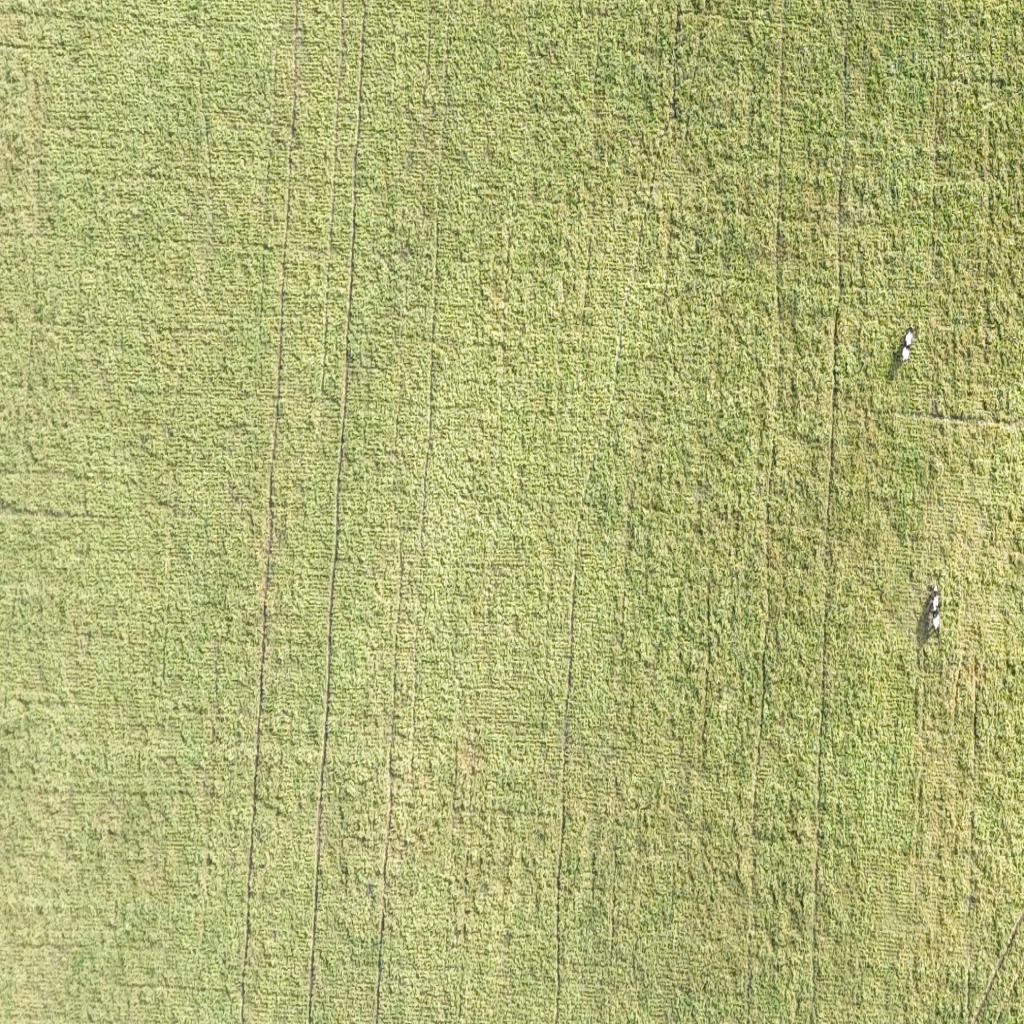cow: (931, 580, 942, 639), (901, 328, 914, 362)
